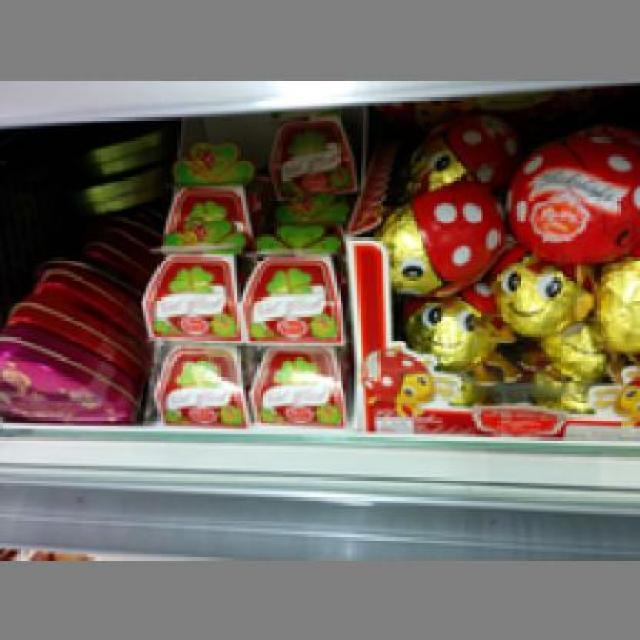Chocolate: (505, 123, 638, 266), (352, 186, 494, 292), (0, 323, 137, 423), (231, 249, 346, 340), (122, 252, 248, 334), (146, 334, 243, 429), (231, 337, 340, 420), (488, 243, 584, 334), (397, 286, 503, 368), (156, 183, 250, 240)
